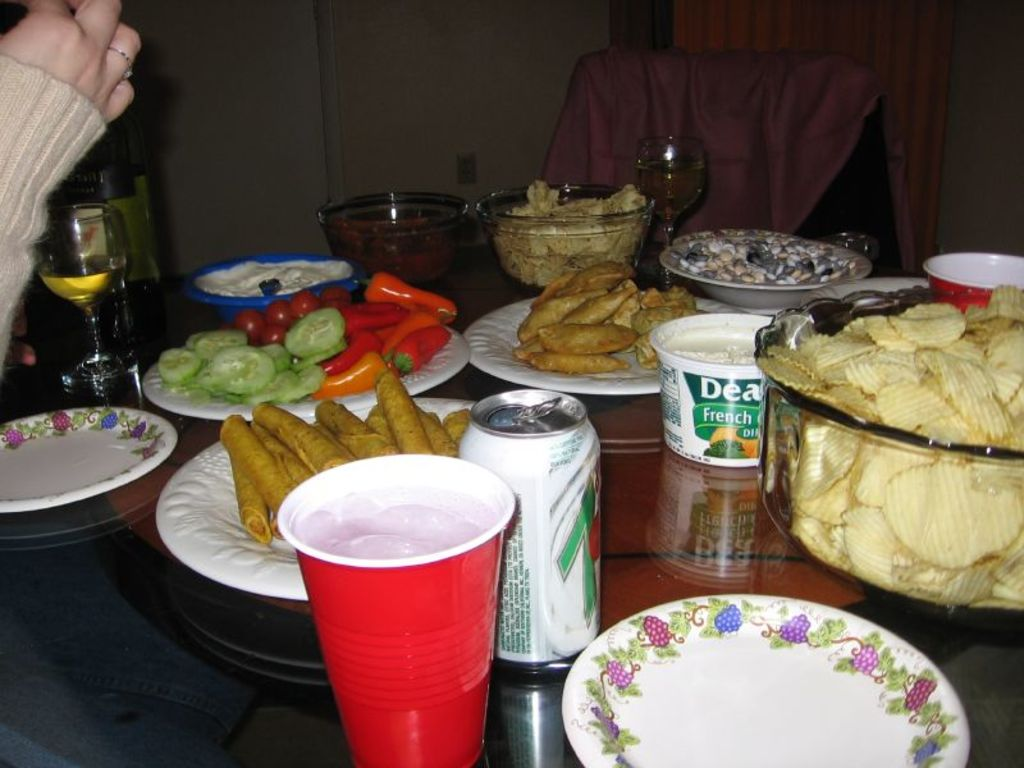plate: (7, 398, 154, 522)
